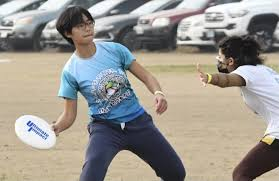disc: (14, 114, 60, 152)
